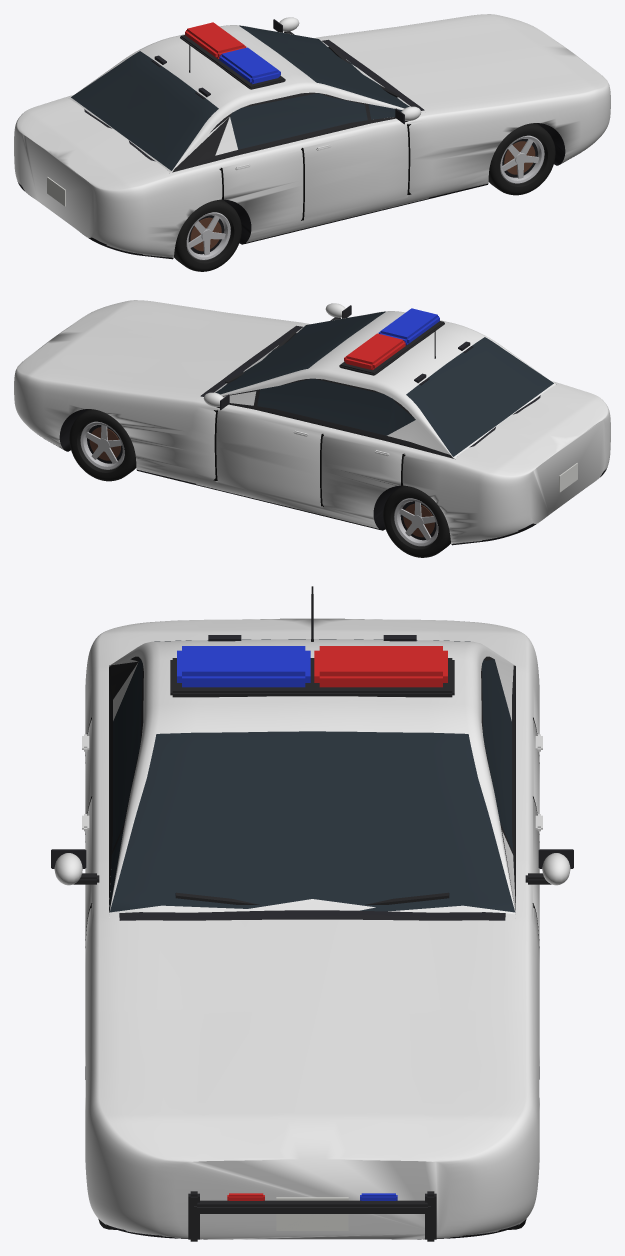
The model's file is veh_police.glb.
3 renders of one model, top to bottom at view 1: azimuth 30°, elevation 25°; view 2: azimuth 150°, elevation 25°; view 3: azimuth 270°, elevation 25°, orthographic. The views are drawn at different scales.
Visible parts, largest first — view 1: police:body, police:tyre1R, police:tyre0R; view 2: police:body, police:tyre1L, police:tyre0L; view 3: police:body.
Boxes of the visible parts, box(x1,y1,x2,y2) form: police:body: box(14, 14, 610, 259); police:tyre1R: box(174, 199, 241, 271); police:tyre0R: box(488, 123, 555, 195); police:body: box(14, 300, 610, 545); police:tyre1L: box(383, 485, 450, 557); police:tyre0L: box(69, 409, 136, 481); police:body: box(51, 586, 573, 1241).
Bounding box in the file's own units: 5.11 × 1.69 × 2.21.
